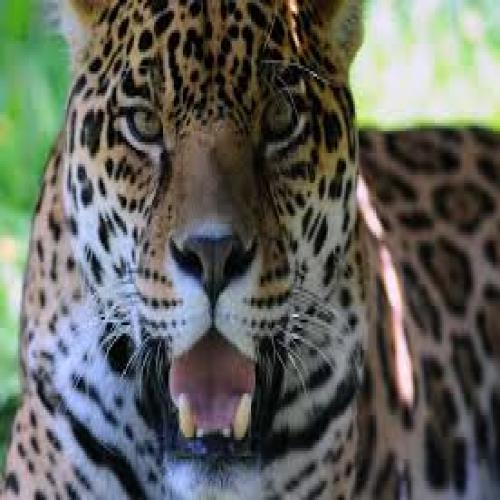jaguar_not-endangered: (54, 0, 419, 500)
